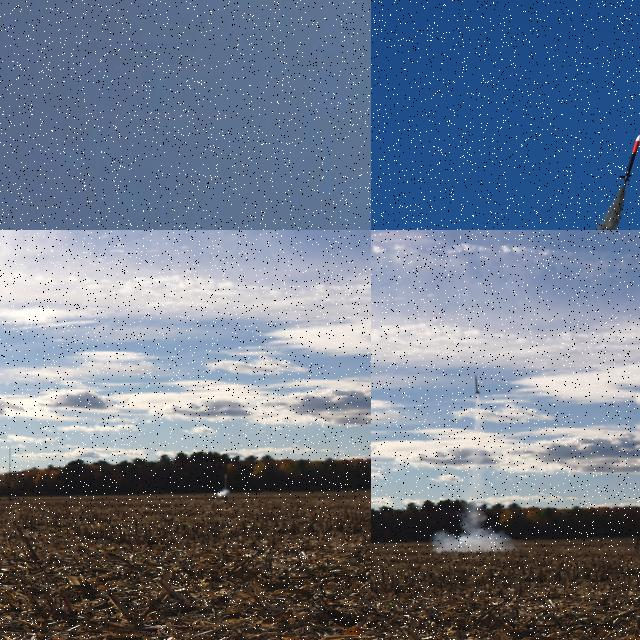Rocket: (619, 134, 640, 182), (474, 374, 480, 394), (224, 473, 228, 491)
